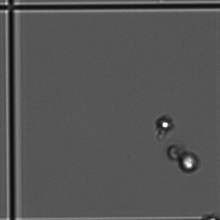Dead Cell: (166, 141, 183, 159)
Living Cell: (153, 111, 177, 135), (178, 150, 200, 172)
